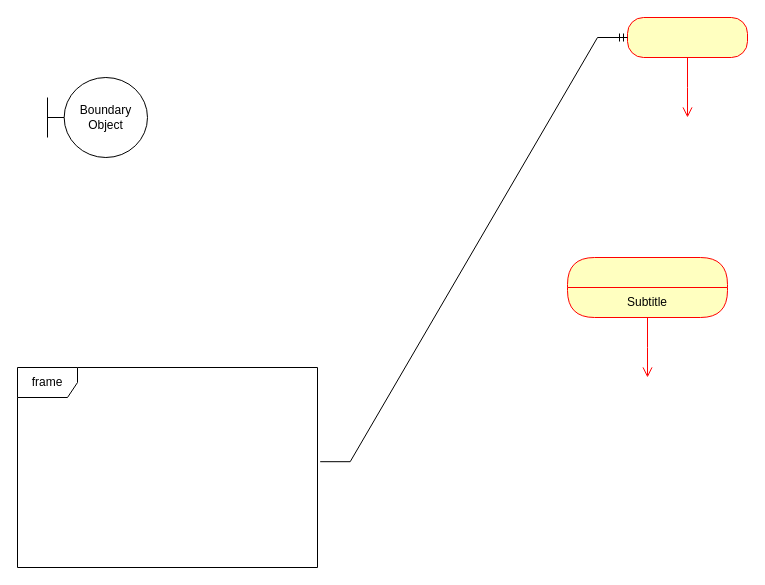
Image size: 765x585. Some labels were removed from this diagram. Each missing label, with the box of its shape:
Activity: (626, 16, 748, 58)
Composite State: (566, 256, 728, 318)
